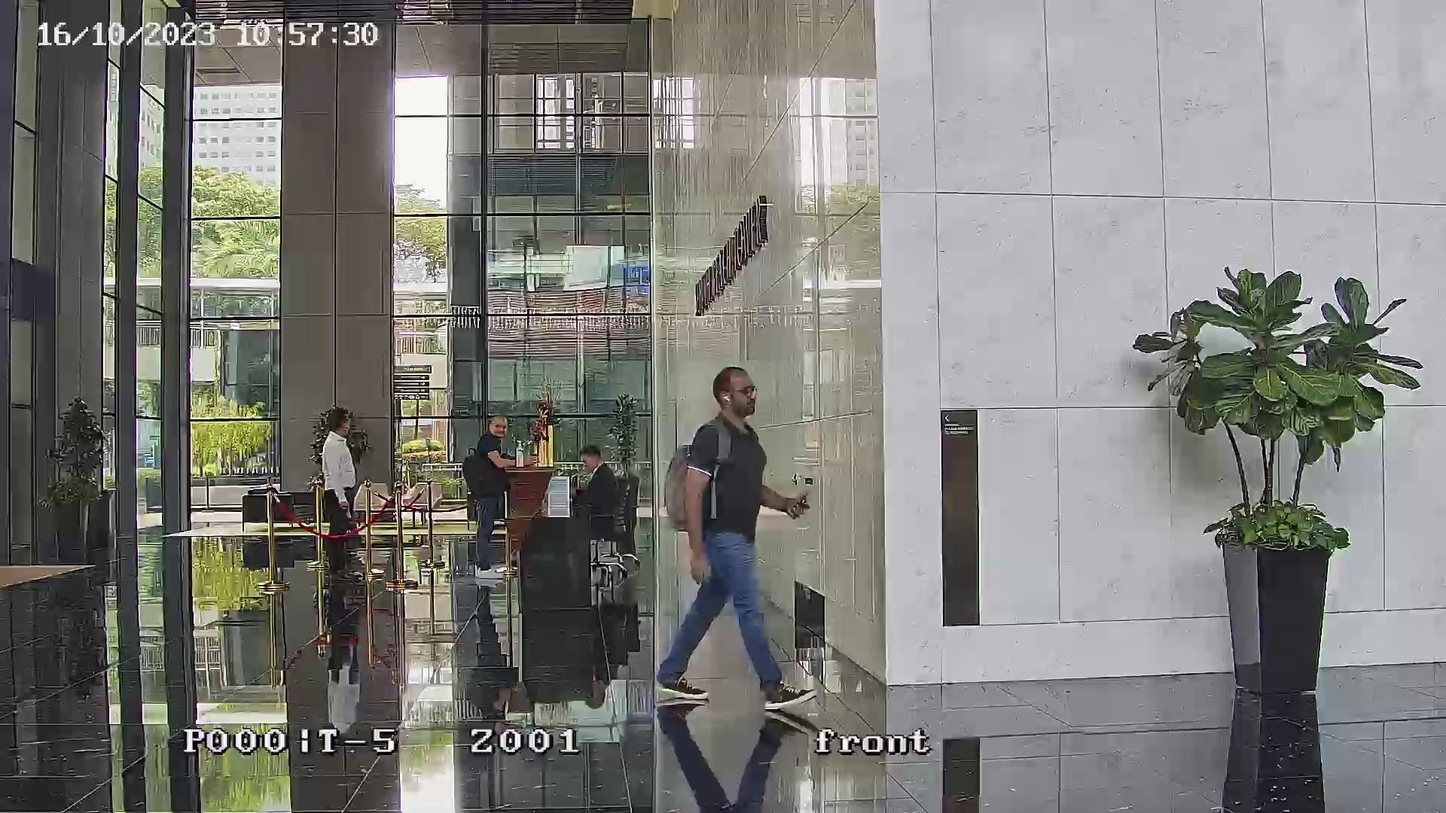person: (654, 366, 811, 709), (465, 413, 521, 577), (320, 407, 359, 580), (578, 443, 618, 516)
